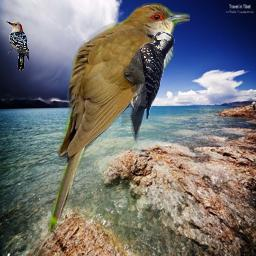Cuckoo: (49, 1, 190, 237)
Woodpecker: (121, 26, 175, 143), (6, 21, 29, 71)
